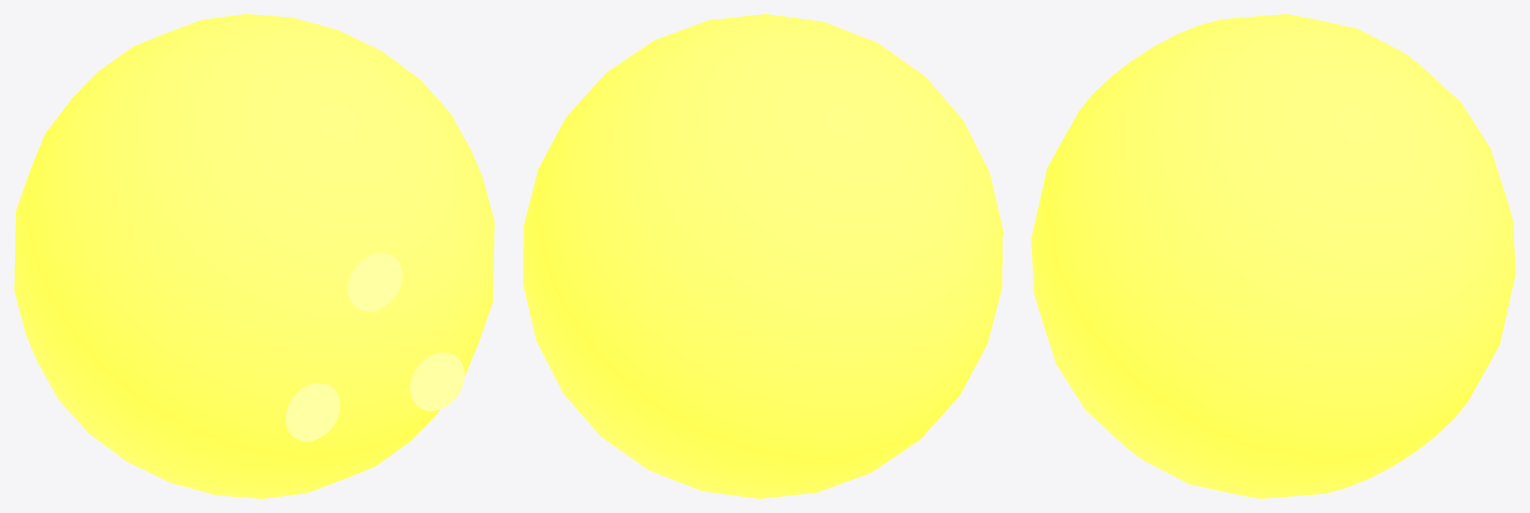
File: ball-3.glb
3 renders of one model, left to right at view 1: azimuth 30°, elevation 25°; view 2: azimuth 150°, elevation 25°; view 3: azimuth 270°, elevation 25°, orthographic.
Parts seen in each view (by area): view 1: BallGlow, LogosGlow; view 2: BallGlow; view 3: BallGlow.
Part boxes in pixels (x1=…): BallGlow: x1=14, y1=14, x2=494, y2=498; LogosGlow: x1=285, y1=253, x2=464, y2=441; BallGlow: x1=523, y1=14, x2=1002, y2=498; BallGlow: x1=1031, y1=14, x2=1515, y2=498.
Size of the model in its own units: 0.333 by 0.3376 by 0.3368.
